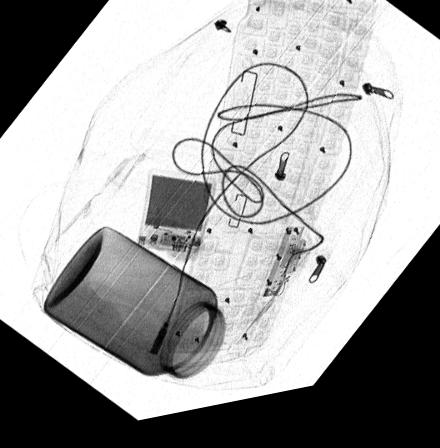Powerbank: (135, 174, 215, 263)
